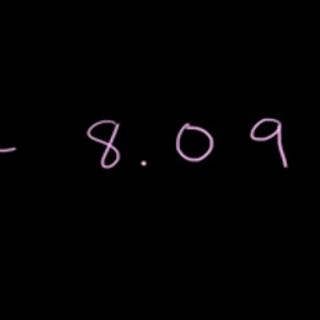.: (136, 154, 151, 176)
0: (171, 118, 216, 169)
8: (82, 113, 127, 176)
9: (247, 109, 292, 176)
